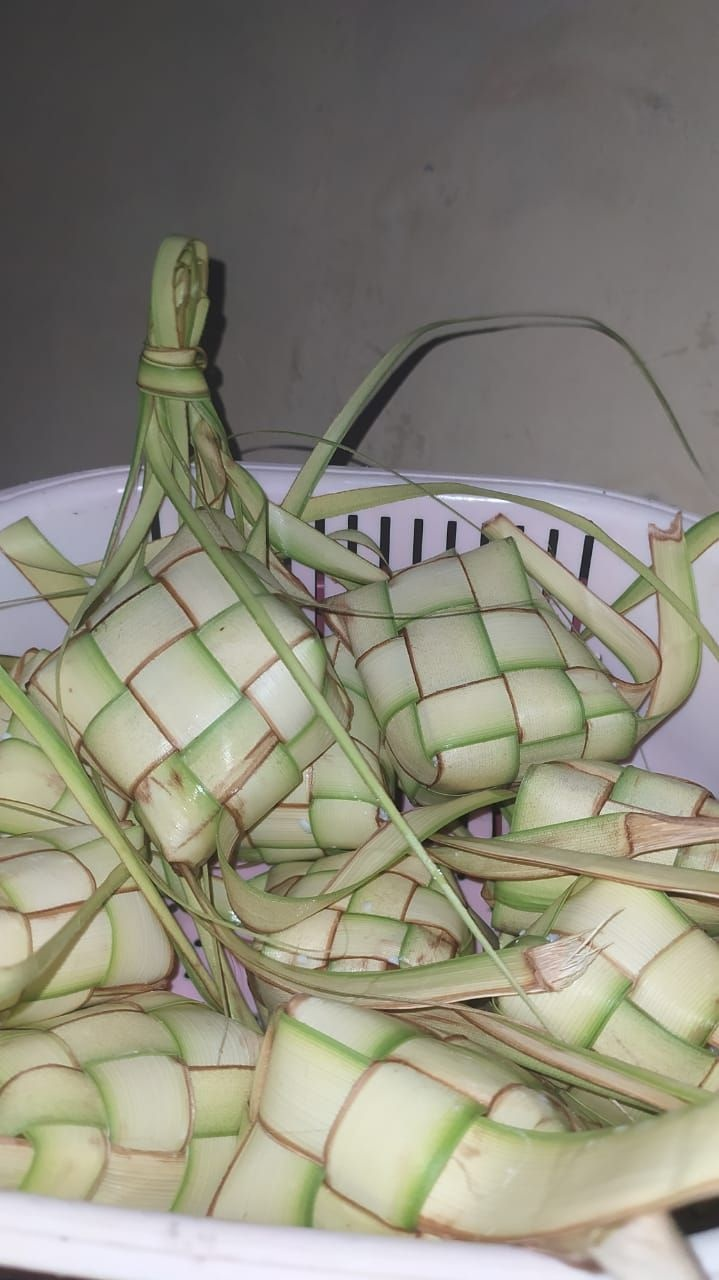ketupat: (20, 511, 347, 867), (329, 538, 639, 791)
